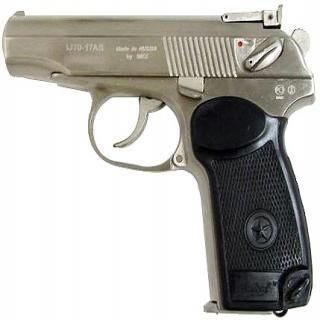gun: (1, 1, 318, 319)
